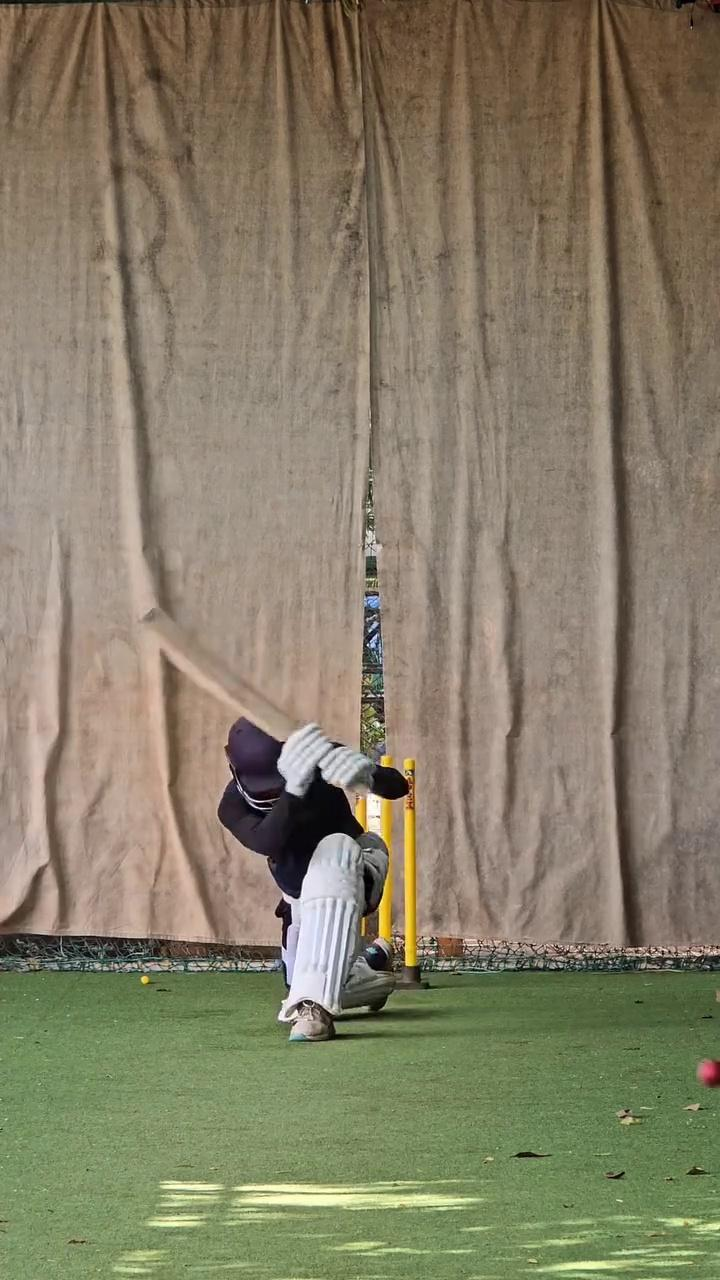bat: (133, 602, 304, 749)
